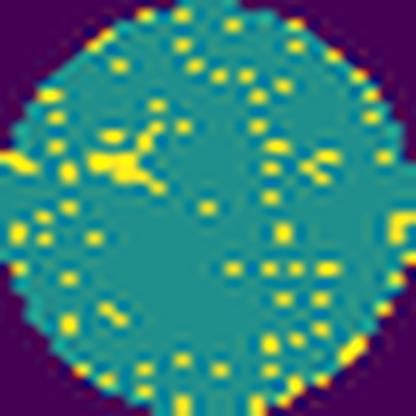Edge-Loc: (84, 116, 171, 199)
